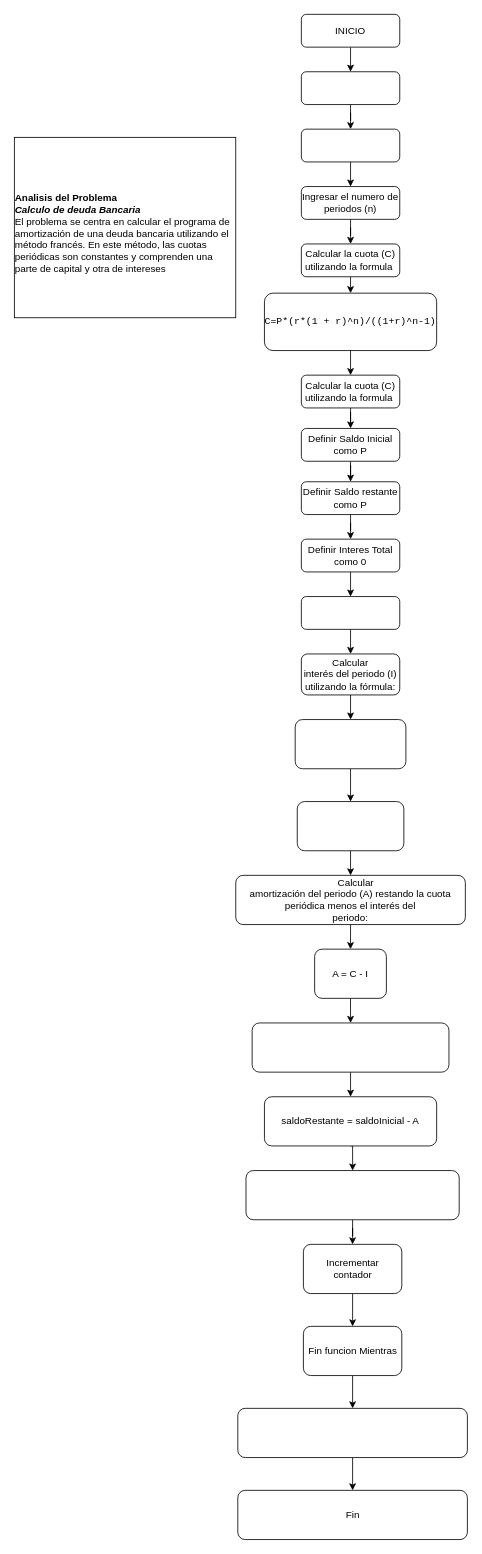
Image size: 482x1554. Some labels were removed from this diagram. The shapes that lost their labels are listed below. From the top down, each one's centre as x and y in pixels, then its label:
At point (350, 88): "Ingresar el Monto del Prestamo (P)".
At point (350, 145): "Ingresar la tasa de interes anual (r)".
At point (350, 612): "mientras contador <= n hacer".
At point (350, 744): "I = saldoRestante * r".
At point (350, 826): "Actualizar interesTotal sumando I".
At point (350, 1047): "Actualizar saldoRestante restando la amortización del periodo del saldoInicial:".
At point (352, 1195): "Actualizar saldoInicial con el saldoRestante para el siguiente periodo".
At point (352, 1433): "Mostrar el monto total pagado (P + interesTotal)".
